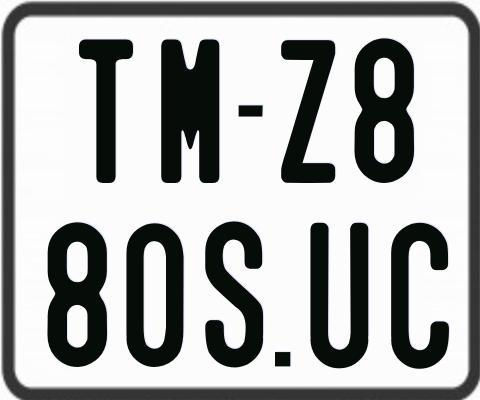0: (125, 220, 184, 368)
8: (44, 220, 107, 368), (351, 37, 413, 186)
C: (388, 223, 452, 372)
M: (161, 36, 222, 184)
S: (203, 218, 263, 365)
T: (76, 37, 130, 185)
U: (309, 223, 372, 371)
Z: (278, 38, 338, 185)
